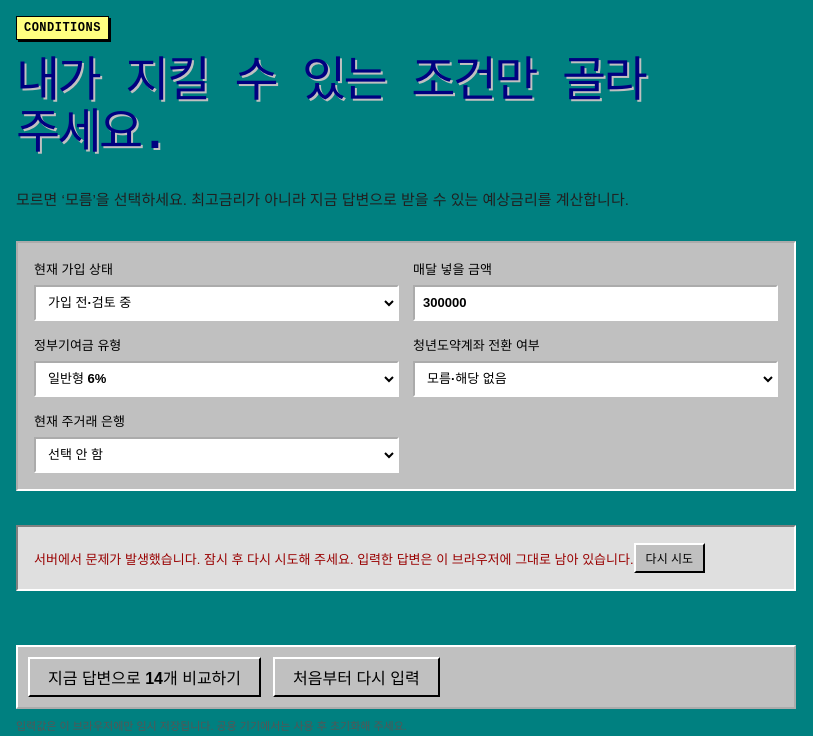
Scenario: failure handling › keeps typed answers when loading fails and recovers on retry
Expected: the message shows "서버에서 문제가 발생했습니다.", 34,551 -> 634,566
Expected: the message shows "입력한 답변은 이 브라우저에 그대로 남아 있습니다.", 34,551 -> 634,566
Click the button "다시 시도".
click(669, 558)  # box 634,543 -> 705,573
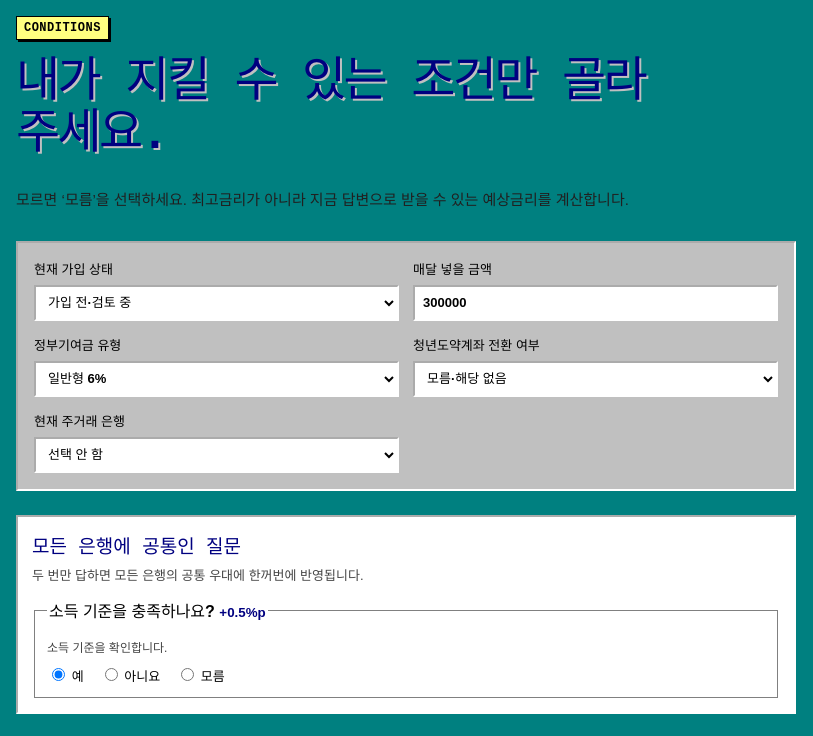
Expected: the number field labelled "매달 넣을 금액" holds "300000", 413,285 -> 778,321
Now the heading "모든 은행에 공통인 질문" is shown, box 32,537 -> 241,559
Now the message "서버에서 문제가 발생했습니다. 잠시 후 다시 시도해 주세요. 입력한 답변은 이 브라우저에 그대로 남아 있습니다. 다시 시도" is gone
